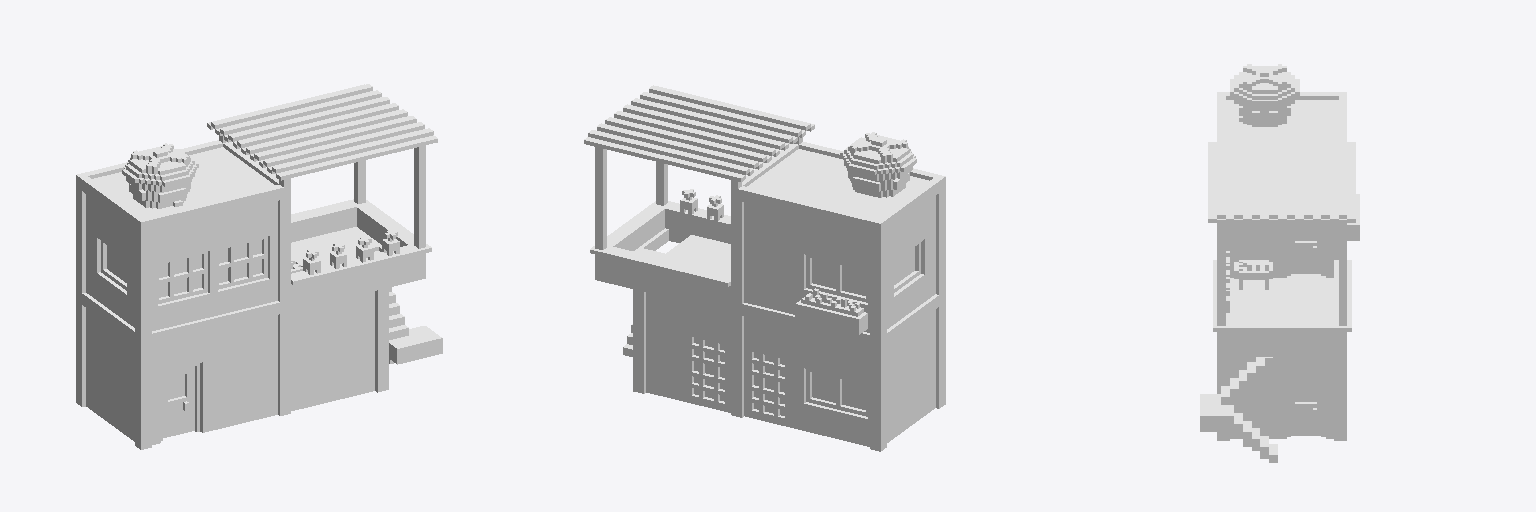
The model's file is casadoisandarlaje.obj.
3 views of the same model, side by side, from view 1: azimuth 30°, elevation 25°; view 2: azimuth 150°, elevation 25°; view 3: azimuth 270°, elevation 25° (orthographic).
Visible parts, largest first — view 1: object 1; view 2: object 1; view 3: object 1.
Boxes of the visible parts, <box> form: object 1: <box>76,84,442,449</box>; object 1: <box>584,85,945,451</box>; object 1: <box>1200,64,1359,462</box>.
Size of the model in its own units: 7.8 by 6.9 by 3.7.